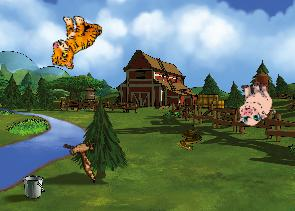eagle: (54, 128, 113, 183)
pig: (233, 80, 276, 126)
tiger: (48, 11, 103, 73)
